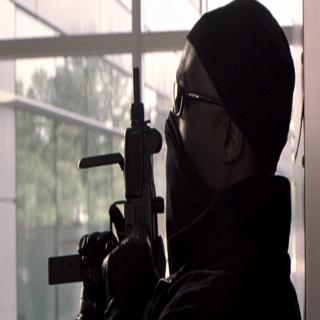gun: (31, 62, 163, 304)
